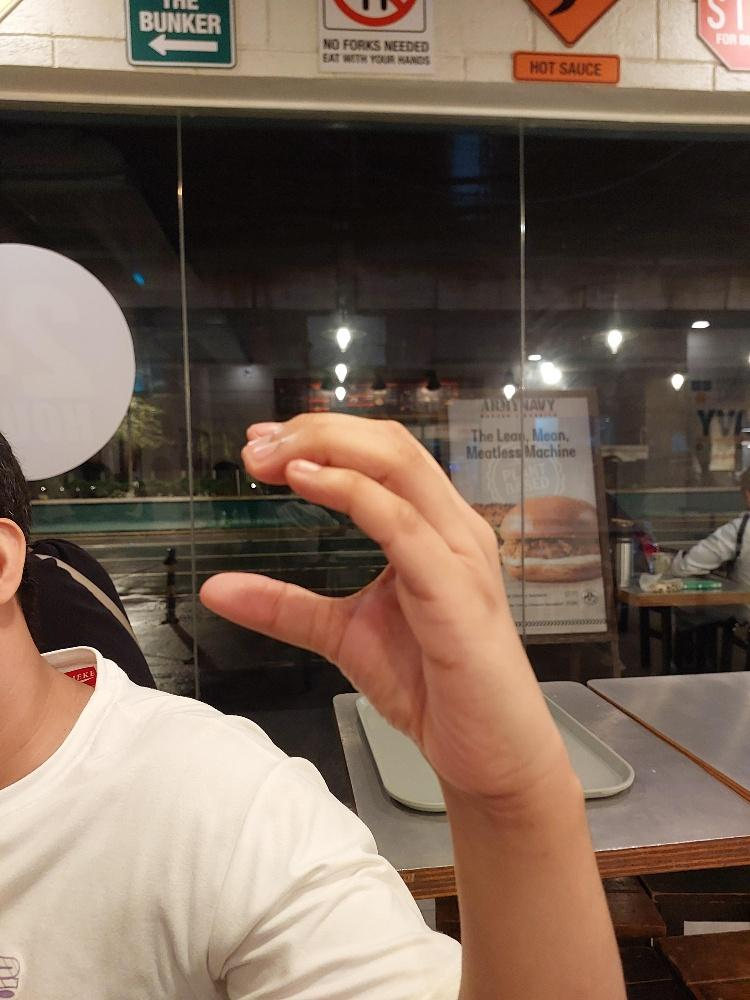c: (198, 408, 544, 797)
